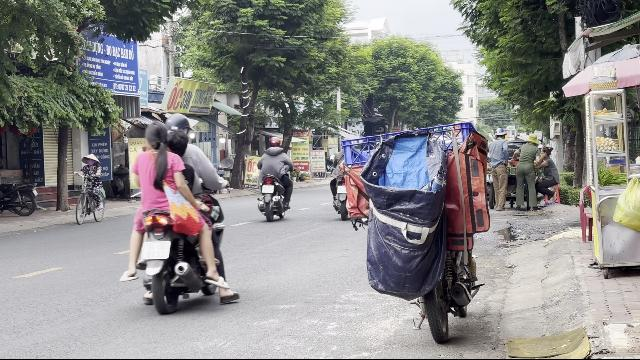helmet: (164, 112, 192, 148)
licenseplate: (141, 241, 171, 259)
motorcyclist: (120, 114, 232, 314)
nohelmet: (143, 121, 169, 150)
